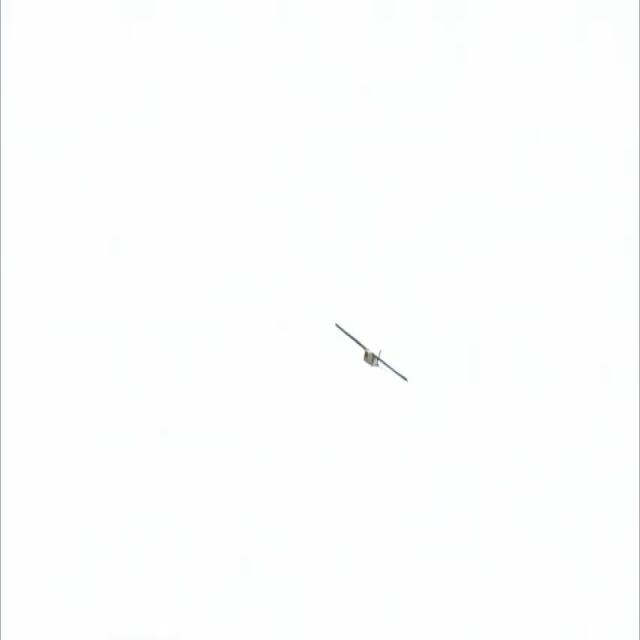iha: (369, 321, 374, 384)
